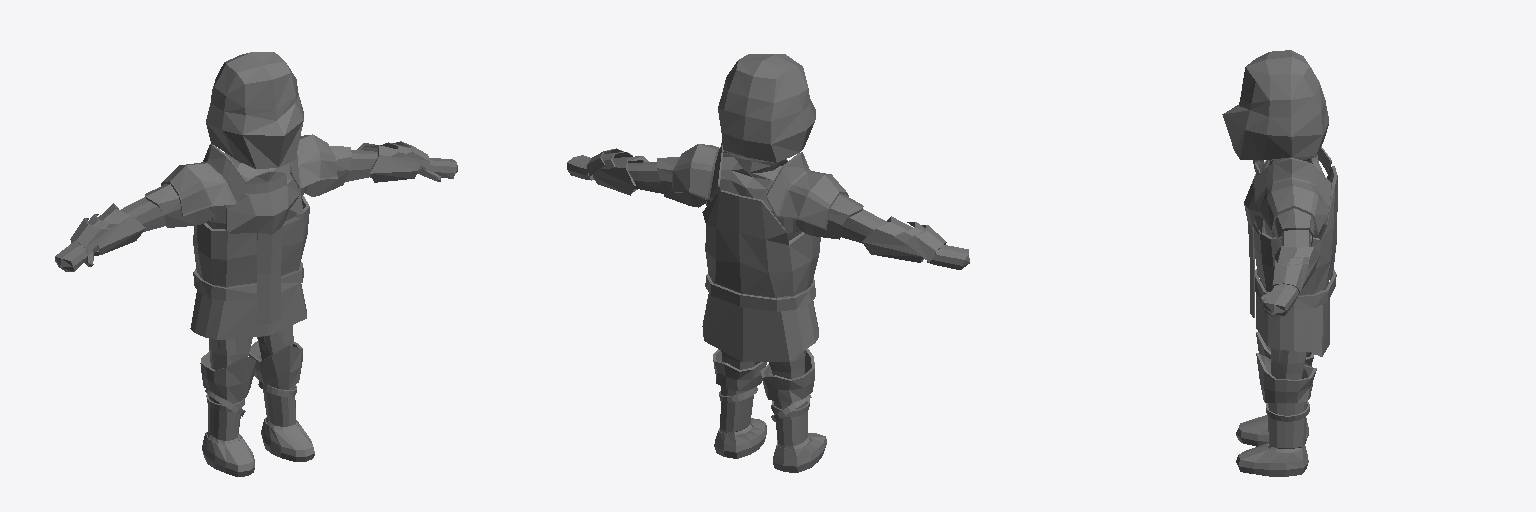
The model's file is Base_char.obj.
3 views of the same model, side by side, from view 1: azimuth 30°, elevation 25°; view 2: azimuth 150°, elevation 25°; view 3: azimuth 270°, elevation 25° (orthographic).
Visible parts, largest first — view 1: polySurface117; view 2: polySurface117; view 3: polySurface117.
Boxes of the visible parts, x1,y1,x2,y2 form: polySurface117: [55, 52, 457, 476]; polySurface117: [567, 54, 969, 472]; polySurface117: [1222, 50, 1337, 476].
Size of the model in its own units: 13.84 by 13.22 by 3.46.